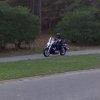Motorcycle: (40, 33, 76, 58)
